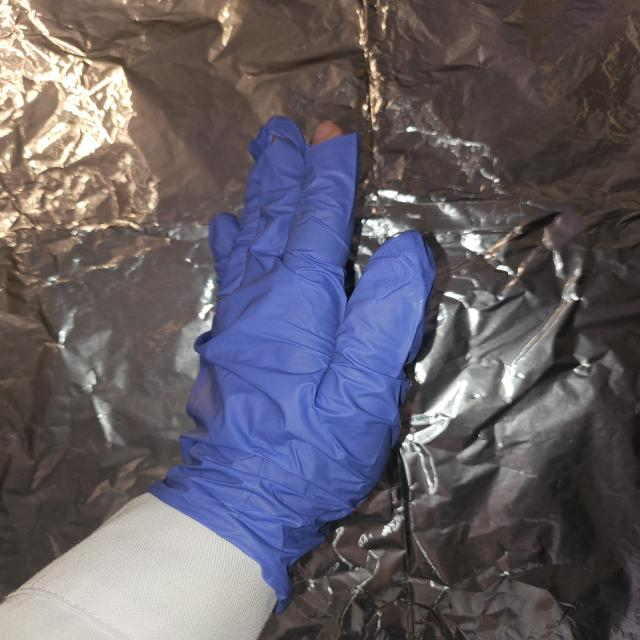gloves_damaged: (144, 112, 437, 614)
